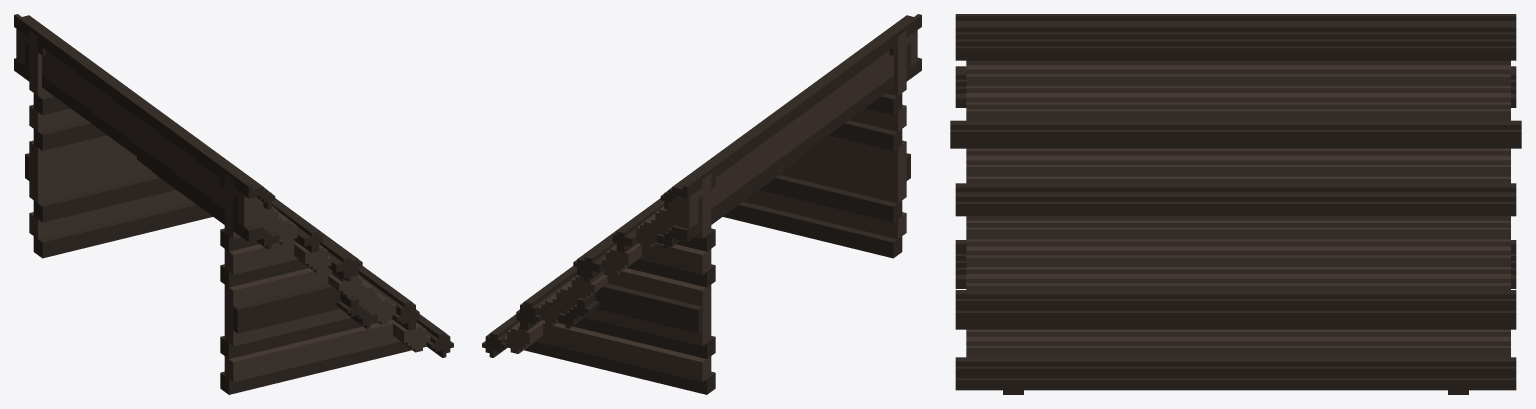
Rendered from RoofHalfFilled.obj.
The picture shows the model from 3 angles, left to right: view 1: azimuth 30°, elevation 25°; view 2: azimuth 150°, elevation 25°; view 3: azimuth 270°, elevation 25°; orthographic projection. The views are drawn at different scales.
Size of the model in its own units: 5.4 by 5.6 by 10.9.
Materials: 1 (1 with a texture image).
